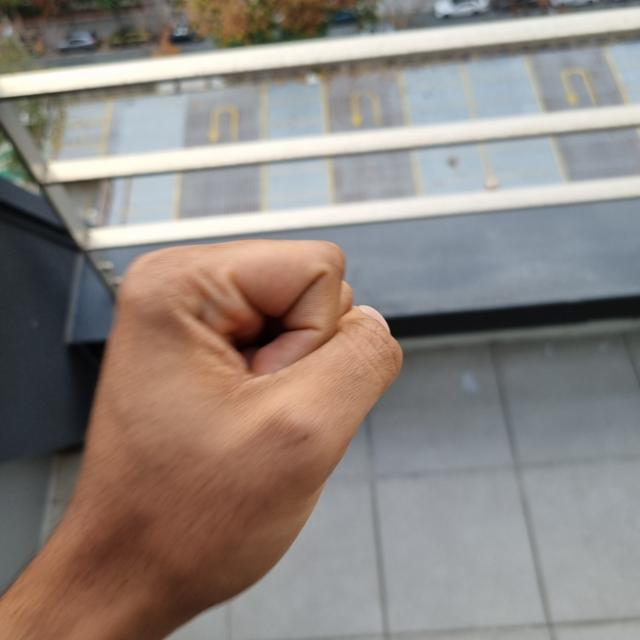Rock: (63, 239, 400, 611)
